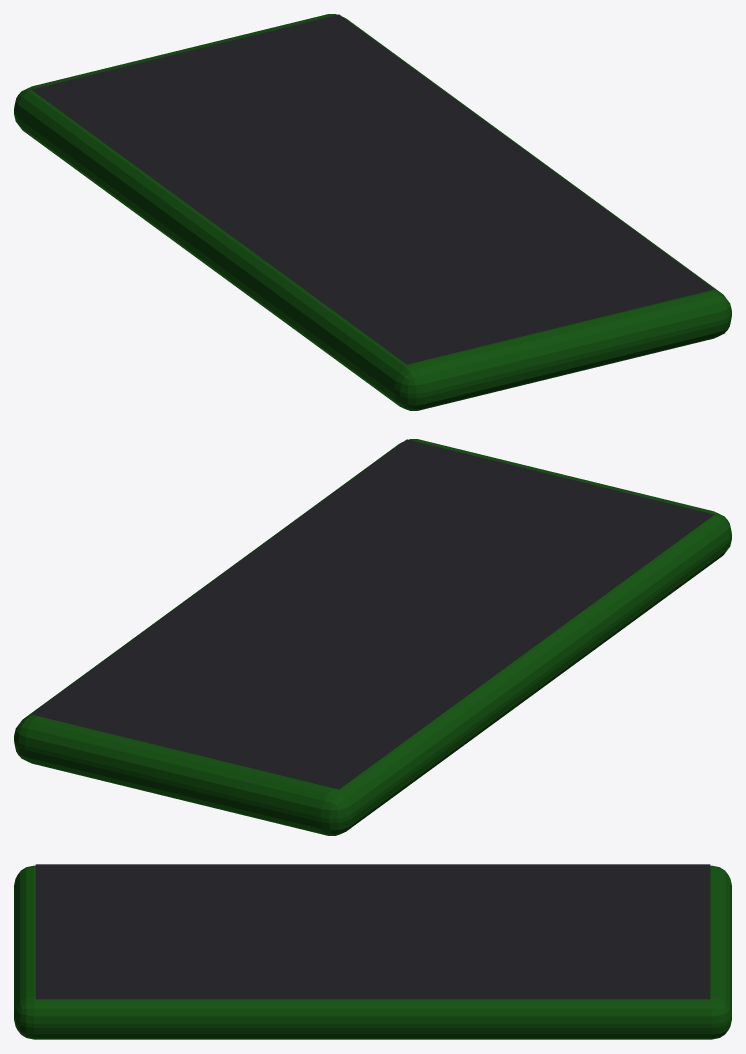
File: oppo-reno-model-293-mid-range-2022.glb
3 views of the same model, one above another, from view 1: azimuth 30°, elevation 25°; view 2: azimuth 150°, elevation 25°; view 3: azimuth 270°, elevation 25° (orthographic). The views are drawn at different scales.
Visible parts, largest first — view 1: Phone_Screen, Phone_Body; view 2: Phone_Screen, Phone_Body; view 3: Phone_Screen, Phone_Body.
Boxes of the visible parts, x1=… form: Phone_Screen: x1=31, y1=14, x2=714, y2=364; Phone_Body: x1=14, y1=14, x2=731, y2=410; Phone_Screen: x1=31, y1=439, x2=714, y2=789; Phone_Body: x1=14, y1=439, x2=731, y2=835; Phone_Screen: x1=35, y1=864, x2=710, y2=999; Phone_Body: x1=14, y1=865, x2=731, y2=1039.
Bounding box in the file's own units: 0.0754 × 0.0098 × 0.1559.
